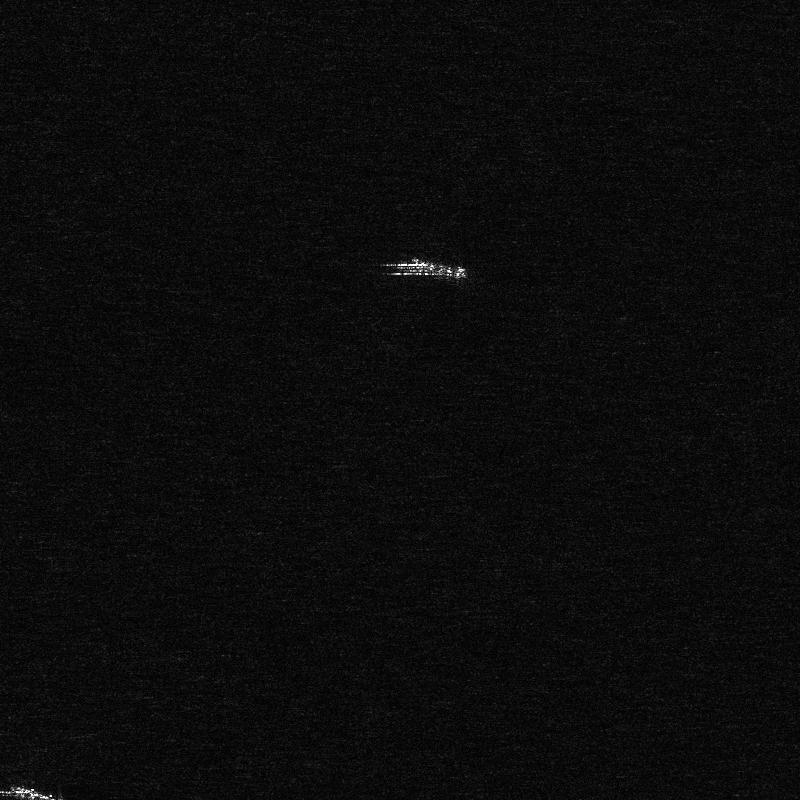ship: (411, 258, 465, 279), (11, 786, 63, 799)
